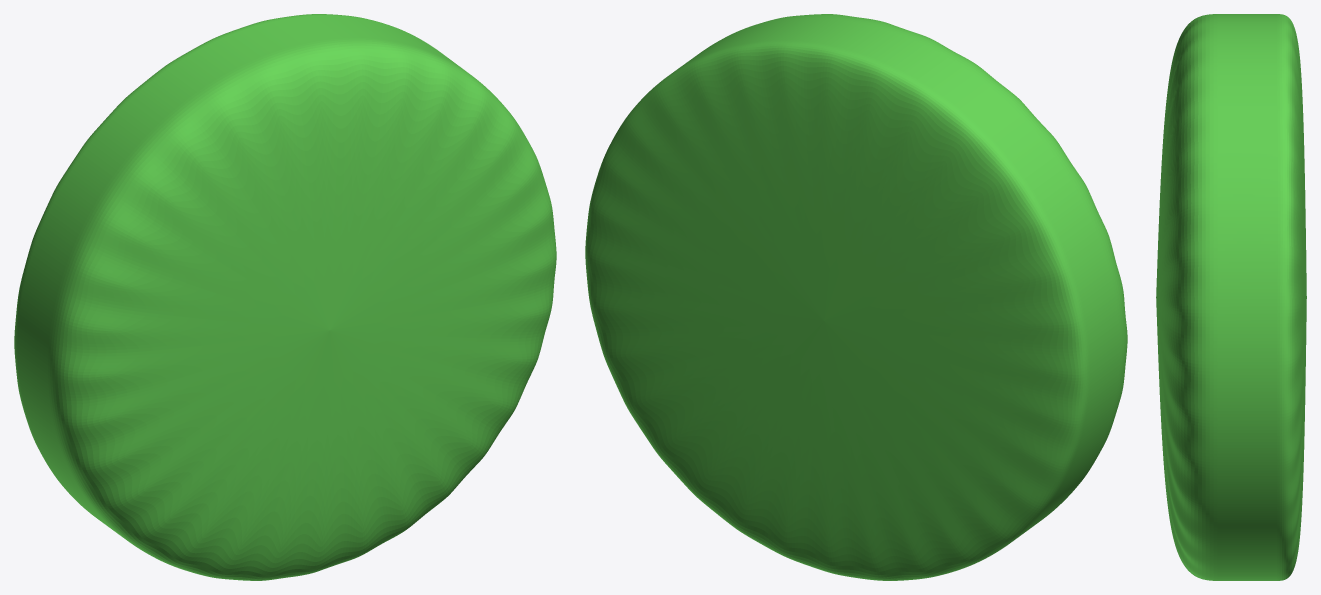
File: Cilindro.glb
The picture shows the model from 3 angles, left to right: view 1: azimuth 30°, elevation 25°; view 2: azimuth 150°, elevation 25°; view 3: azimuth 270°, elevation 25°; orthographic projection. The views are drawn at different scales.
Parts seen in each view (by area): view 1: Cylinder; view 2: Cylinder; view 3: Cylinder.
Boxes of the visible parts, <box> form: Cylinder: <box>14,14,556,580</box>; Cylinder: <box>585,14,1127,580</box>; Cylinder: <box>1156,14,1306,580</box>.
Size of what is drawn, in the model's own units: 0.5962 by 0.5962 by 0.1585.
